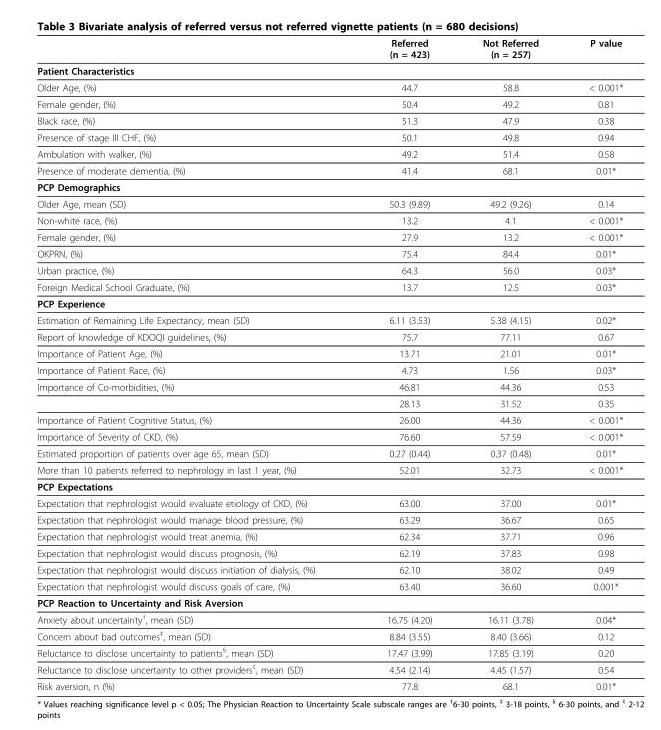table: (36, 36, 622, 691)
table column: (36, 36, 350, 691), (456, 36, 563, 691), (350, 36, 456, 691), (563, 36, 622, 691)
table column header: (36, 36, 622, 62)
table projected row header: (36, 178, 622, 195), (36, 294, 622, 311), (36, 477, 622, 494), (36, 62, 622, 78), (36, 594, 622, 610)
table row: (36, 36, 622, 62), (36, 78, 622, 95), (36, 95, 622, 112), (36, 128, 622, 145), (36, 145, 622, 162), (36, 178, 622, 195), (36, 211, 622, 228), (36, 228, 622, 245), (36, 261, 622, 278), (36, 294, 622, 311), (36, 311, 622, 328), (36, 344, 622, 361), (36, 361, 622, 378), (36, 394, 622, 411), (36, 411, 622, 428), (36, 444, 622, 461), (36, 477, 622, 494), (36, 494, 622, 511), (36, 527, 622, 544), (36, 544, 622, 561), (36, 577, 622, 594), (36, 610, 622, 627), (36, 643, 622, 660), (36, 660, 622, 677), (36, 62, 622, 78), (36, 112, 622, 128), (36, 162, 622, 178), (36, 195, 622, 211), (36, 245, 622, 261), (36, 278, 622, 294), (36, 328, 622, 344), (36, 378, 622, 394), (36, 428, 622, 444), (36, 461, 622, 477), (36, 511, 622, 527), (36, 561, 622, 577), (36, 594, 622, 610), (36, 627, 622, 643), (36, 677, 622, 691)
table spanning cell: (36, 378, 350, 411)
